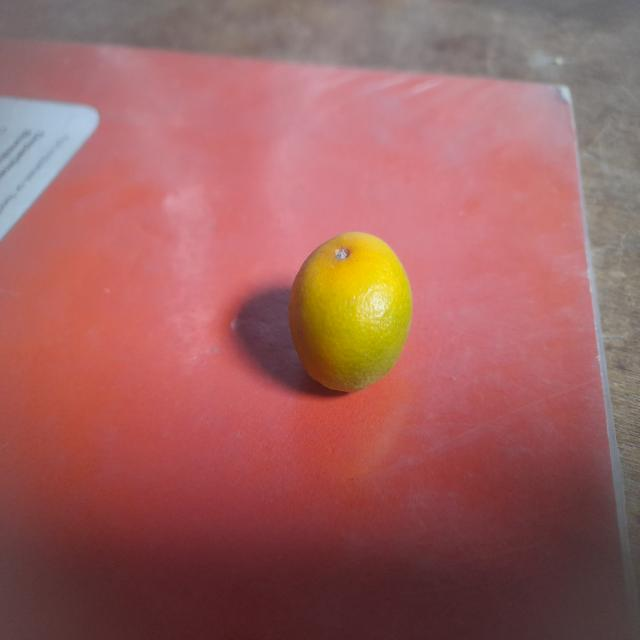greening: (286, 227, 412, 399)
